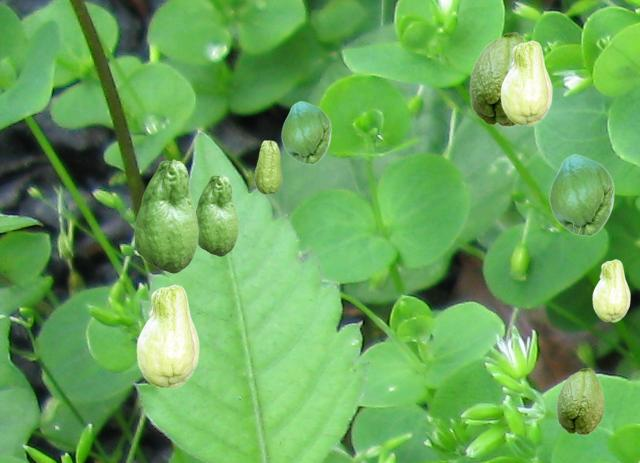sayote: (134, 159, 197, 272), (136, 284, 198, 388), (469, 31, 525, 126), (549, 154, 613, 235), (500, 40, 551, 125), (196, 174, 237, 255), (556, 367, 604, 434), (281, 101, 330, 163), (592, 259, 629, 321), (254, 140, 281, 193)
